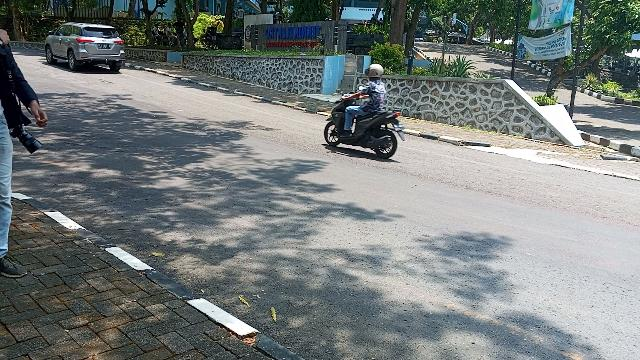helm: (366, 65, 384, 80)
motor: (326, 97, 406, 160)
